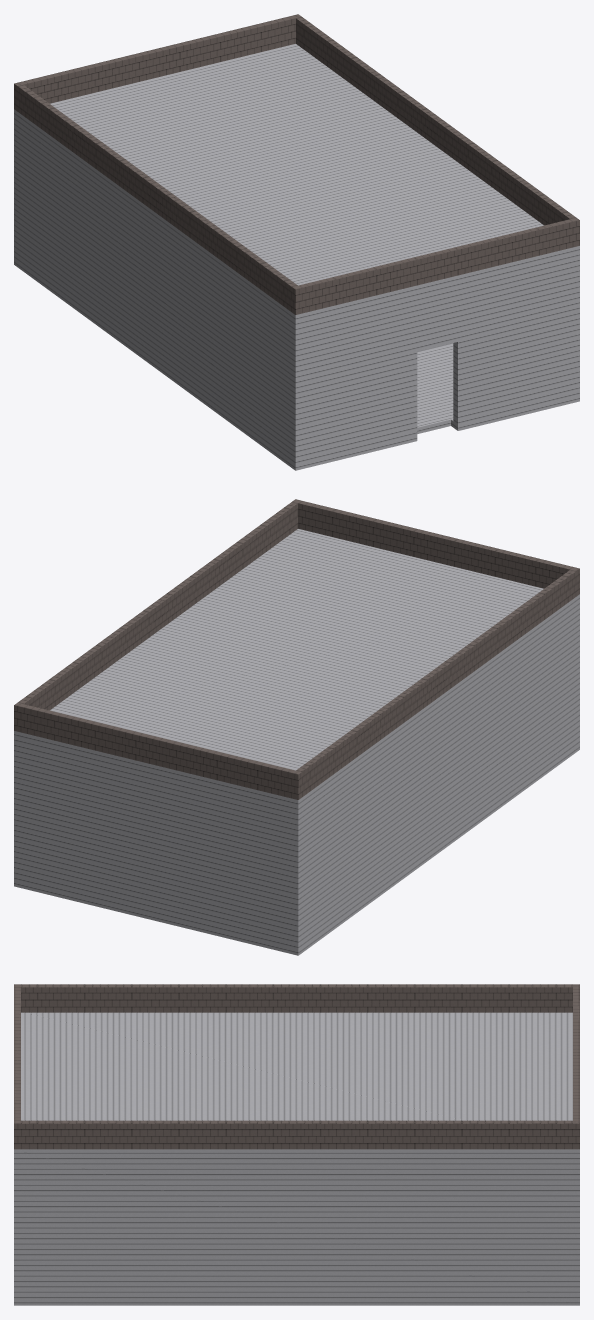
File: real_estate_office.glb
The picture shows the model from 3 angles, top to bottom: view 1: azimuth 30°, elevation 25°; view 2: azimuth 150°, elevation 25°; view 3: azimuth 270°, elevation 25°; orthographic projection.
Visible parts, largest first — view 1: real_estate_office-col; view 2: real_estate_office-col; view 3: real_estate_office-col.
Part boxes in pixels (box(x1,y1,x2,y2)): real_estate_office-col: box(14, 14, 579, 470); real_estate_office-col: box(14, 499, 579, 955); real_estate_office-col: box(14, 984, 579, 1305).
Size of the model in its own units: 7 by 4.26 by 12.
Materials: 2 (2 with a texture image).
